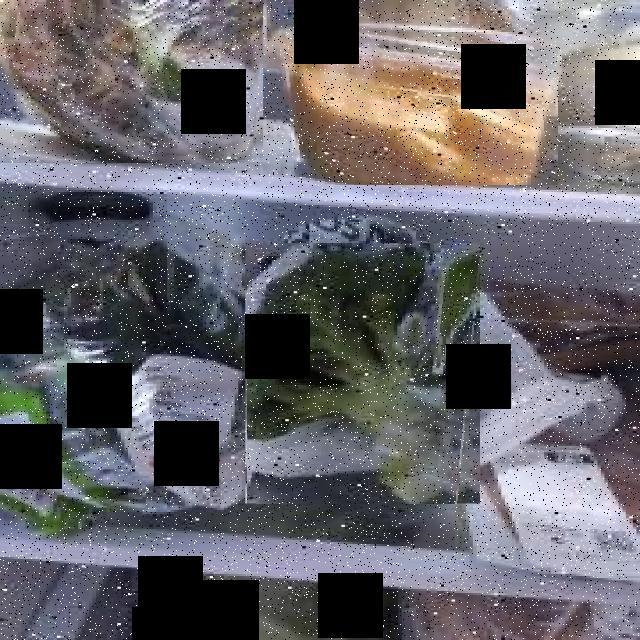broccoli: (247, 243, 482, 504)
humus: (267, 18, 558, 185)
pineapple: (0, 1, 263, 163)
